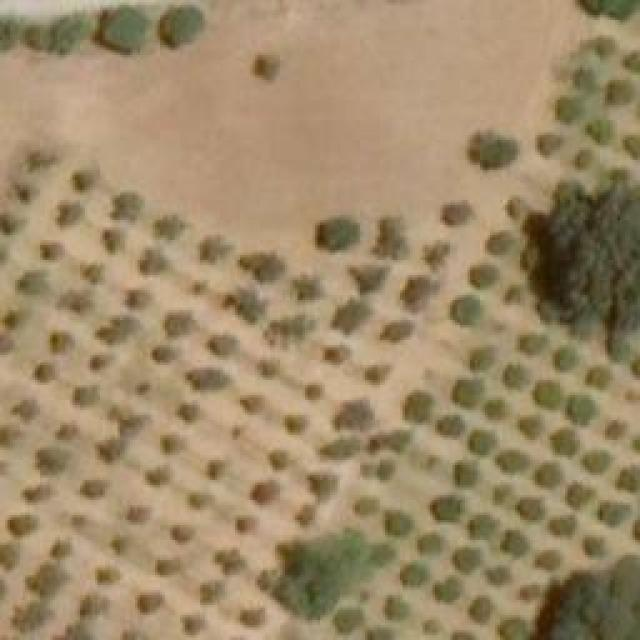Tree: (517, 182, 640, 325), (530, 555, 640, 640), (262, 533, 350, 618), (98, 8, 143, 53), (163, 8, 206, 53), (263, 315, 316, 348), (470, 133, 518, 168), (375, 215, 410, 263), (93, 312, 136, 350), (35, 445, 75, 485), (13, 598, 53, 638), (55, 12, 93, 50), (328, 400, 378, 428), (317, 218, 355, 253), (293, 270, 333, 303), (28, 565, 68, 598), (230, 285, 265, 320), (185, 365, 228, 393), (240, 253, 280, 283), (335, 298, 368, 333), (565, 390, 600, 423), (427, 493, 465, 523), (365, 430, 413, 453), (233, 600, 266, 633), (135, 248, 170, 278), (455, 378, 490, 408), (248, 54, 282, 84), (400, 275, 430, 308), (60, 290, 93, 320), (198, 233, 231, 263), (498, 448, 531, 478), (380, 510, 415, 538), (52, 200, 80, 233), (153, 212, 186, 240), (163, 310, 196, 338), (530, 377, 563, 405), (407, 390, 435, 423), (598, 502, 631, 530), (450, 545, 483, 573), (503, 530, 533, 560), (320, 440, 358, 463), (420, 238, 448, 268), (112, 193, 140, 223), (360, 357, 390, 385), (307, 470, 335, 500), (47, 533, 75, 563), (218, 547, 248, 575), (465, 345, 495, 373), (450, 460, 480, 488), (472, 598, 500, 628), (208, 333, 241, 358), (513, 335, 546, 360), (465, 430, 498, 455), (395, 563, 430, 586), (352, 262, 380, 290), (552, 342, 580, 370), (612, 465, 640, 493), (380, 320, 413, 343), (518, 495, 551, 518), (563, 68, 593, 93), (443, 203, 473, 228), (5, 515, 35, 540), (268, 445, 293, 475), (138, 590, 168, 615), (435, 413, 465, 438), (383, 595, 413, 620), (430, 578, 460, 603), (608, 80, 633, 108), (552, 98, 580, 123), (15, 270, 43, 295), (198, 580, 223, 608), (80, 592, 105, 620), (332, 605, 360, 630), (500, 363, 528, 388), (553, 427, 578, 455), (538, 460, 563, 488), (565, 483, 593, 508), (582, 450, 610, 475), (125, 288, 155, 311), (140, 465, 170, 488), (468, 265, 498, 288), (350, 495, 380, 518), (57, 622, 95, 640), (10, 400, 38, 423), (157, 433, 185, 456), (237, 393, 265, 416), (280, 415, 308, 438), (110, 533, 138, 556), (415, 530, 443, 553), (98, 228, 123, 253), (80, 475, 105, 500), (203, 458, 228, 483), (250, 478, 275, 503), (290, 505, 315, 530), (180, 613, 205, 638), (488, 233, 513, 258), (25, 20, 45, 50), (185, 493, 215, 513), (453, 295, 476, 320), (28, 150, 51, 175), (50, 330, 73, 355), (118, 413, 143, 436), (125, 503, 150, 526), (585, 365, 610, 388), (603, 418, 628, 441), (520, 413, 543, 438), (373, 545, 398, 568), (485, 565, 510, 588), (578, 538, 603, 561), (72, 385, 100, 405), (52, 423, 80, 443), (22, 485, 50, 505), (170, 400, 198, 420), (315, 345, 343, 365), (152, 558, 180, 578), (465, 515, 493, 535), (590, 35, 613, 58), (535, 133, 558, 156), (73, 170, 96, 193), (40, 240, 63, 263), (88, 350, 111, 373), (0, 307, 22, 330), (622, 47, 640, 75), (588, 120, 613, 140), (0, 545, 20, 570), (30, 363, 55, 383), (233, 515, 258, 535), (610, 338, 630, 363), (550, 515, 575, 535), (498, 620, 523, 640), (13, 183, 36, 203), (150, 345, 173, 365), (98, 438, 121, 458), (258, 358, 278, 381), (98, 565, 118, 588), (622, 130, 640, 155), (173, 522, 198, 540), (487, 395, 505, 420), (625, 352, 640, 380), (0, 215, 18, 238), (300, 382, 323, 400), (377, 458, 395, 481), (515, 582, 538, 600), (538, 550, 558, 570), (83, 262, 103, 280), (575, 150, 595, 168), (490, 485, 510, 503), (420, 618, 438, 638), (0, 428, 15, 451), (368, 625, 391, 640), (73, 510, 88, 530), (505, 198, 520, 218), (423, 455, 443, 470), (193, 277, 208, 295), (358, 462, 373, 480), (228, 425, 243, 440)
